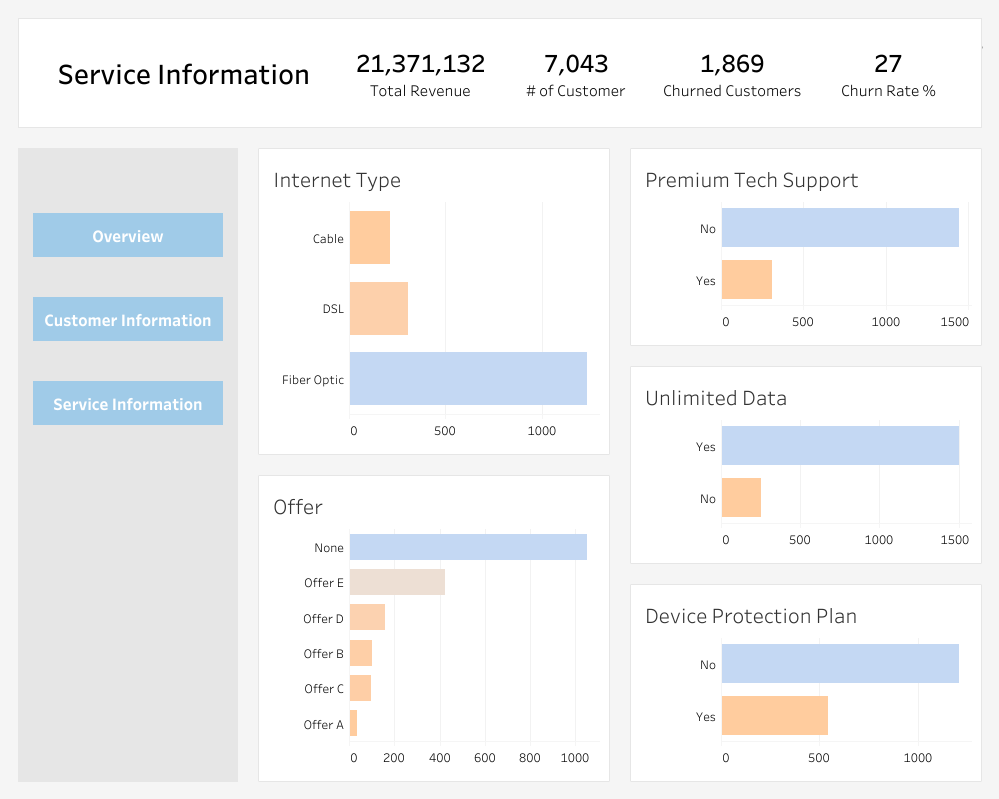

What the dashboard file says about the page in this screenshot:
{"tool":"tableau","page":{"name":"Service Information","canvas":[1000,800],"ordinal":3},"visuals":[{"type":"title","box":[0,0,1000,44]},{"type":"dashboard-object","box":[629,84,164,52]},{"type":"dashboard-object","box":[429,85,164,52]},{"type":"dashboard-object","box":[225,87,164,52]},{"type":"worksheet","title":"Offer","mark":"Automatic","rows":["Offer"],"cols":["Customer ID"],"box":[508,164,448,197]},{"type":"worksheet","title":"Interne Type","mark":"Automatic","rows":["Internet Type"],"cols":["Customer ID"],"box":[20,168,433,197]},{"type":"worksheet","title":"Premium Tech Support","mark":"Automatic","rows":["Premium Tech Support"],"cols":["Customer ID"],"box":[27,406,430,197]},{"type":"worksheet","title":"Unlimited Data","mark":"Automatic","rows":["Unlimited Data"],"cols":["Customer ID"],"box":[524,407,437,197]}]}

Visuals, with their boxes in screenshot pixels (x1, y1, x2, y2), scaled from the page's 1000x800 canvas onto the 999x799 screenshot:
title: [0, 0, 998, 44]
dashboard-object: [628, 84, 792, 136]
dashboard-object: [429, 85, 592, 137]
dashboard-object: [225, 87, 389, 139]
"Offer" worksheet: [507, 164, 955, 361]
"Interne Type" worksheet: [20, 168, 453, 365]
"Premium Tech Support" worksheet: [27, 405, 457, 602]
"Unlimited Data" worksheet: [523, 406, 960, 603]
